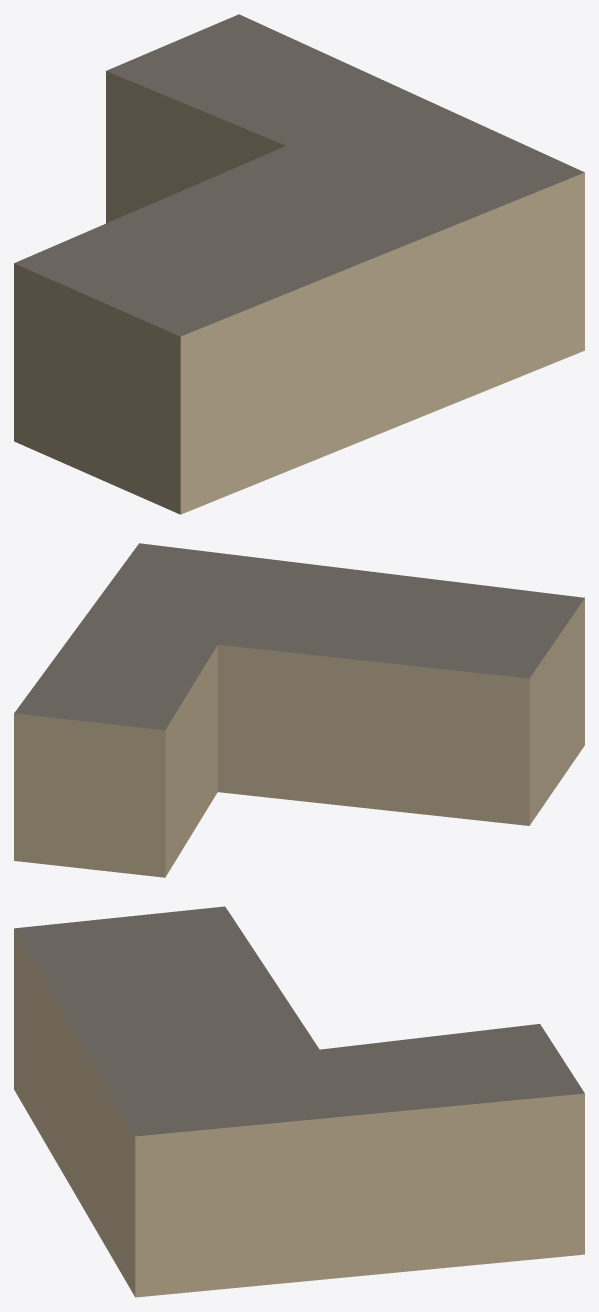
The picture shows the model from 3 angles, top to bottom: view 1: azimuth 30°, elevation 25°; view 2: azimuth 150°, elevation 25°; view 3: azimuth 270°, elevation 25°; orthographic projection. The views are drawn at different scales.
Visible parts, largest first — view 1: HP-w1216207223; view 2: HP-w1216207223; view 3: HP-w1216207223.
Part boxes in pixels (x1,y1,x2,y2): HP-w1216207223: [14, 14, 584, 514]; HP-w1216207223: [14, 543, 584, 877]; HP-w1216207223: [14, 906, 584, 1297].
Bounding box in the file's own units: 40.43 × 13.2 × 42.41.
